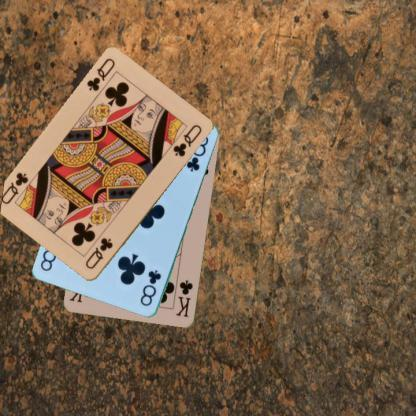8c: (137, 268, 163, 308)
Kc: (173, 278, 194, 318)
Qc: (84, 55, 116, 93), (82, 235, 114, 271)
